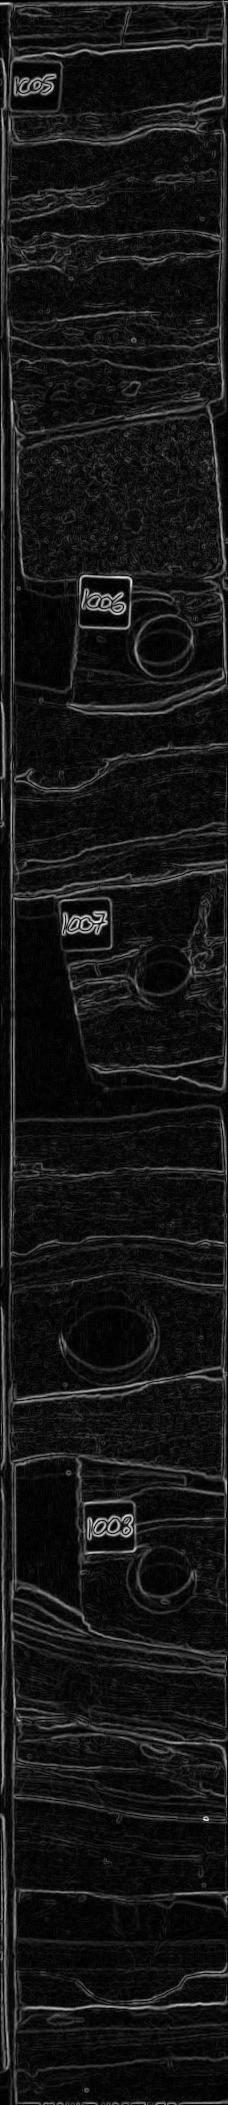hplug: (122, 934, 203, 1014), (126, 1540, 203, 1619), (127, 608, 203, 686)
scal: (58, 1286, 158, 1384)
vplug: (15, 886, 101, 1069), (15, 1447, 91, 1632), (15, 560, 89, 716)
